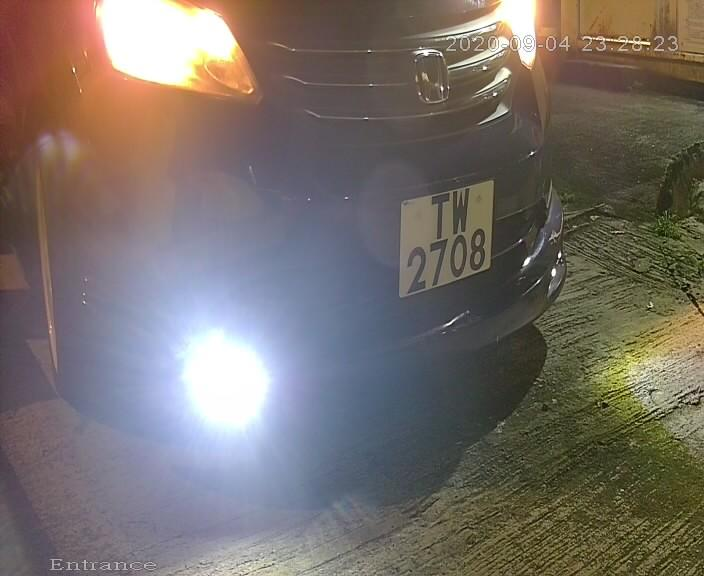Car: (19, 16, 607, 489)
License Plate: (390, 168, 500, 304)
